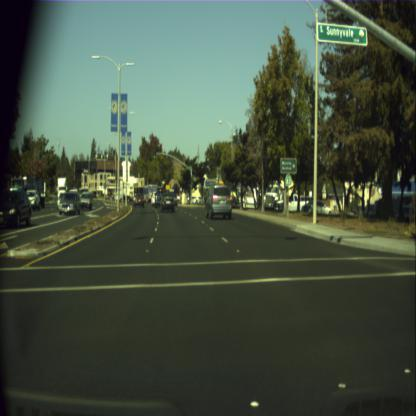Green: (153, 149, 156, 159), (191, 177, 193, 185), (218, 168, 219, 178)
